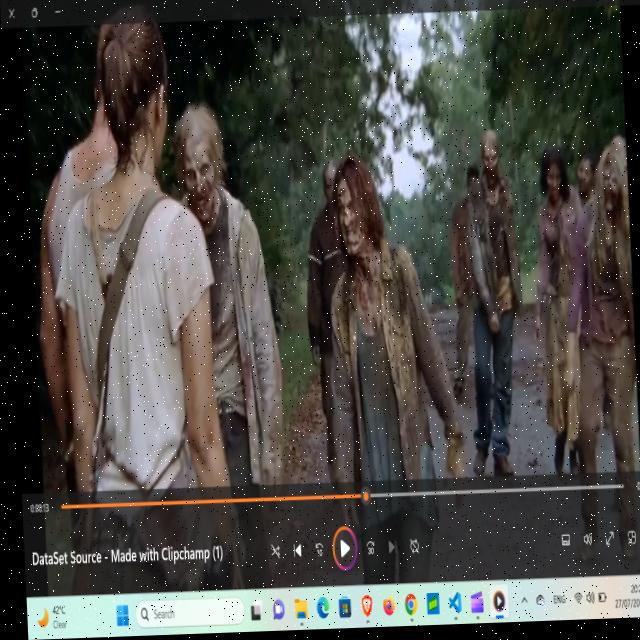Zombie: (178, 134, 218, 220), (330, 175, 367, 257), (597, 166, 621, 219), (480, 134, 498, 191), (574, 157, 592, 201), (545, 166, 560, 203), (320, 168, 333, 208), (464, 172, 477, 191)
human: (88, 65, 102, 134)
